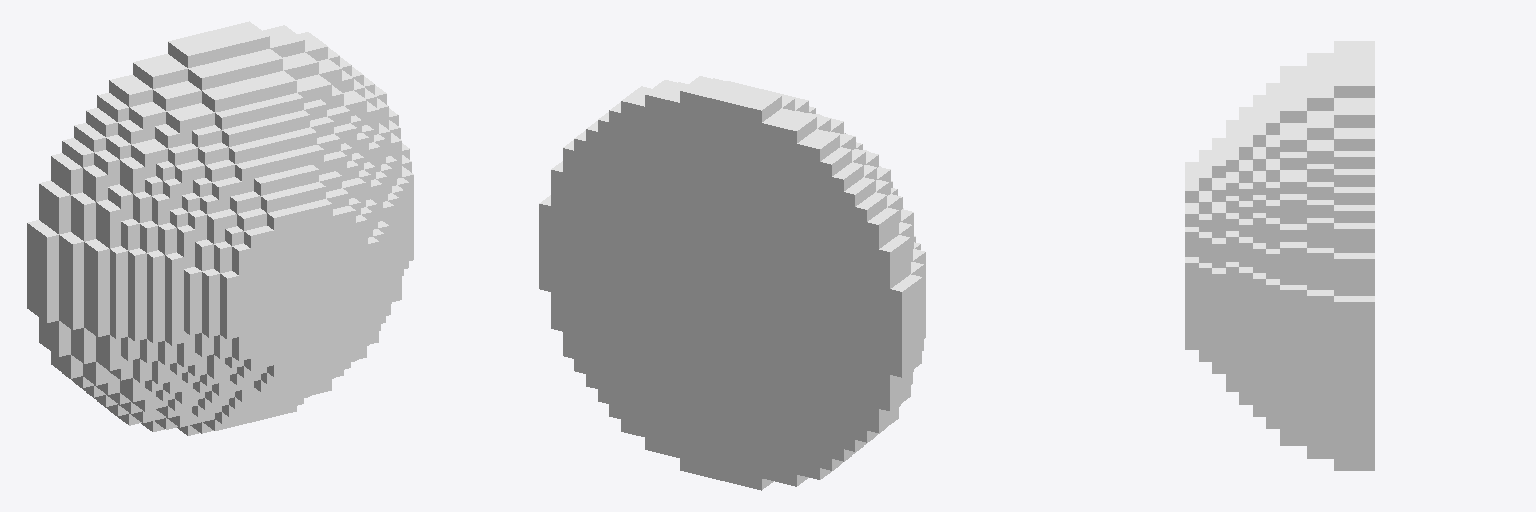
File: Aerodinamica.obj
3 renders of one model, left to right at view 1: azimuth 30°, elevation 25°; view 2: azimuth 150°, elevation 25°; view 3: azimuth 270°, elevation 25°, orthographic.
Visible parts, largest first — view 1: object 1; view 2: object 1; view 3: object 1.
Part boxes in pixels (bbox=[...]): object 1: bbox=[27, 21, 413, 435]; object 1: bbox=[539, 76, 925, 490]; object 1: bbox=[1185, 41, 1374, 470].
Bounding box in the file's own units: 3.1 × 3.1 × 1.4.